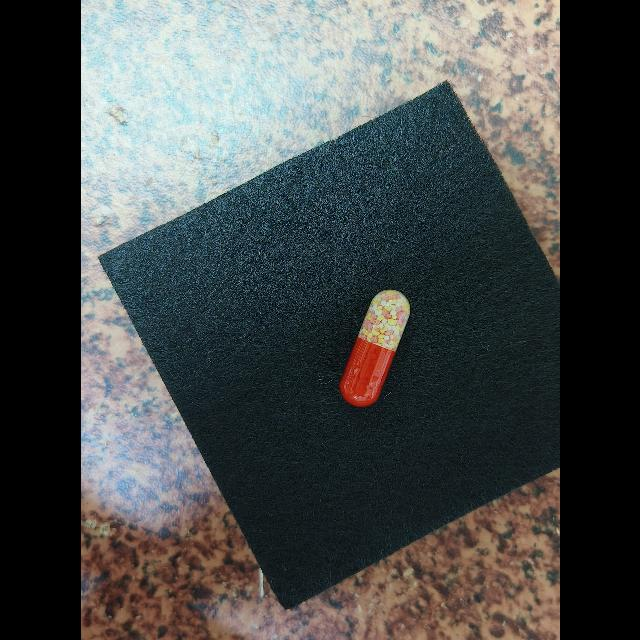Intact Capsule: (339, 289, 410, 407)
